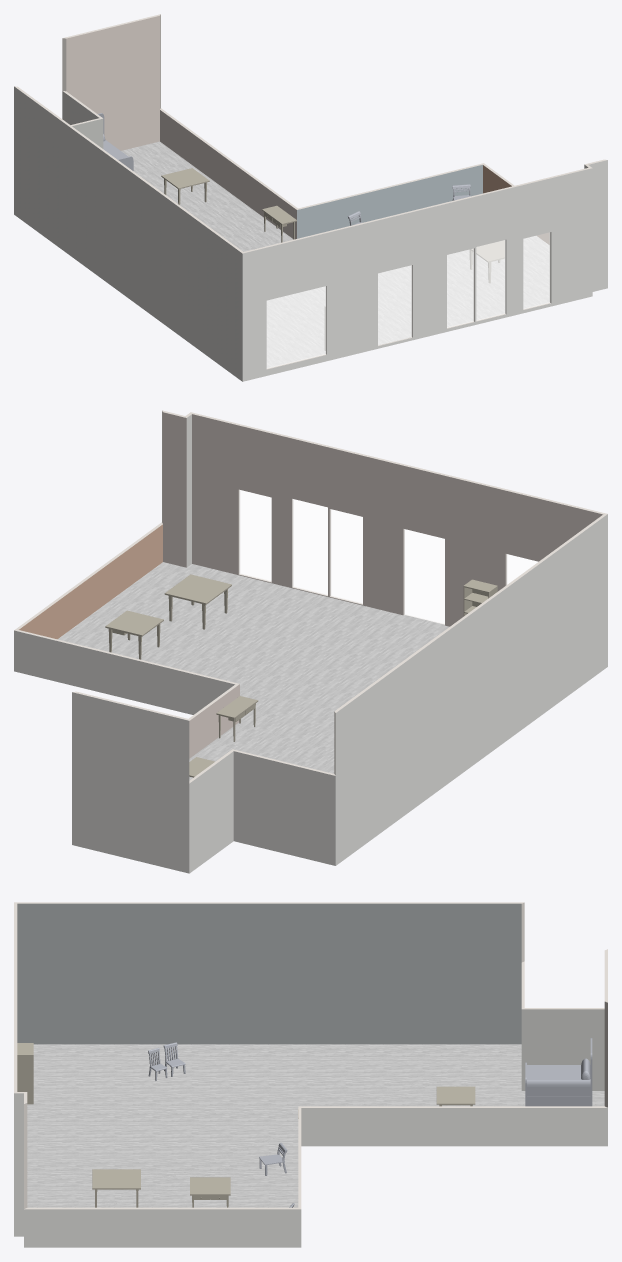
File: TerraceWest.glb
3 views of the same model, one above another, from view 1: azimuth 30°, elevation 25°; view 2: azimuth 150°, elevation 25°; view 3: azimuth 270°, elevation 25° (orthographic). The views are drawn at different scales.
Parts seen in each view (by area): view 1: wall_8, wall_2, floor_Dining_Room, wall_24, wall_18, window_0, window_4, wall_22, door_0, door_2, window_2, window_6 (+14 smaller); view 2: wall_2, wall_26, floor_Dining_Room, wall_7, wall_1, wall_4, wall_10, wall_9, wall_20, door_0, door_2, window_2 (+13 smaller); view 3: wall_14, floor_Dining_Room, wall_6, wall_0, wall_28, bed0, wall_3, table_dining_rect1, wall_15, table_other_rect0, storage_shelf0, wall_11 (+3 smaller).
Boxes of the visible parts, x1=… form: wall_8: x1=242, y1=168, x2=592, y2=381; wall_2: x1=14, y1=86, x2=242, y2=381; floor_Dining_Room: x1=146, y1=168, x2=549, y2=367; wall_24: x1=66, y1=16, x2=159, y2=150; wall_18: x1=297, y1=165, x2=482, y2=238; window_0: x1=267, y1=286, x2=325, y2=368; window_4: x1=267, y1=286, x2=325, y2=368; wall_22: x1=160, y1=110, x2=296, y2=239; door_0: x1=378, y1=265, x2=411, y2=344; door_2: x1=378, y1=265, x2=411, y2=344; window_2: x1=476, y1=240, x2=505, y2=320; window_6: x1=476, y1=240, x2=505, y2=320; wall_2: x1=335, y1=514, x2=607, y2=865; wall_26: x1=192, y1=414, x2=602, y2=626; floor_Dining_Room: x1=58, y1=562, x2=449, y2=780; wall_7: x1=72, y1=692, x2=189, y2=873; wall_1: x1=233, y1=751, x2=335, y2=865; wall_4: x1=14, y1=630, x2=234, y2=714; wall_10: x1=19, y1=524, x2=162, y2=639; wall_9: x1=189, y1=751, x2=233, y2=873; wall_20: x1=163, y1=412, x2=186, y2=567; door_0: x1=404, y1=529, x2=444, y2=624; door_2: x1=404, y1=529, x2=444, y2=624; window_2: x1=293, y1=499, x2=327, y2=595; wall_14: x1=17, y1=903, x2=521, y2=1044; floor_Dining_Room: x1=27, y1=1044, x2=523, y2=1207; wall_6: x1=301, y1=1108, x2=607, y2=1146; wall_0: x1=24, y1=1209, x2=301, y2=1247; wall_28: x1=521, y1=1009, x2=604, y2=1090; bed0: x1=525, y1=1038, x2=592, y2=1106; wall_3: x1=14, y1=1093, x2=23, y2=1236; table_dining_rect1: x1=92, y1=1169, x2=140, y2=1207; wall_15: x1=14, y1=902, x2=524, y2=903; table_other_rect0: x1=190, y1=1177, x2=230, y2=1207; storage_shelf0: x1=17, y1=1043, x2=33, y2=1104; wall_11: x1=24, y1=1207, x2=300, y2=1209.
Bounding box in the file's own units: 14.89 × 4.94 × 18.53.
35 materials, 2 textured.
